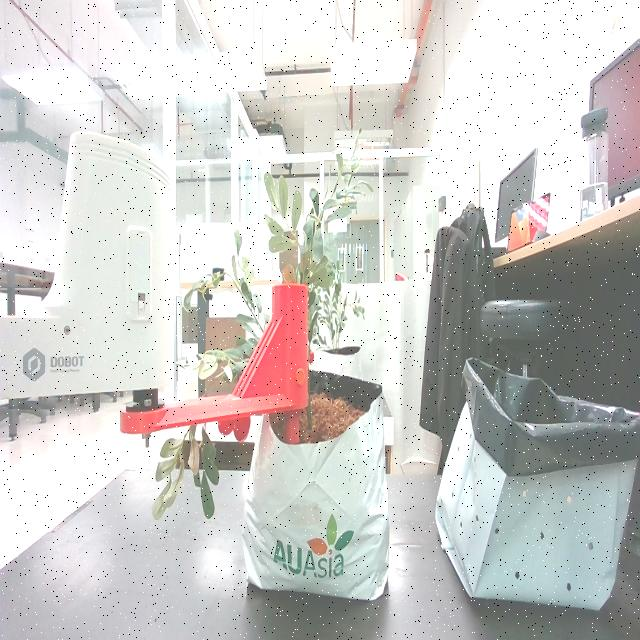EndEffector: (0, 132, 309, 446)
Soilbag: (242, 372, 392, 604)
plant: (145, 123, 370, 522)
